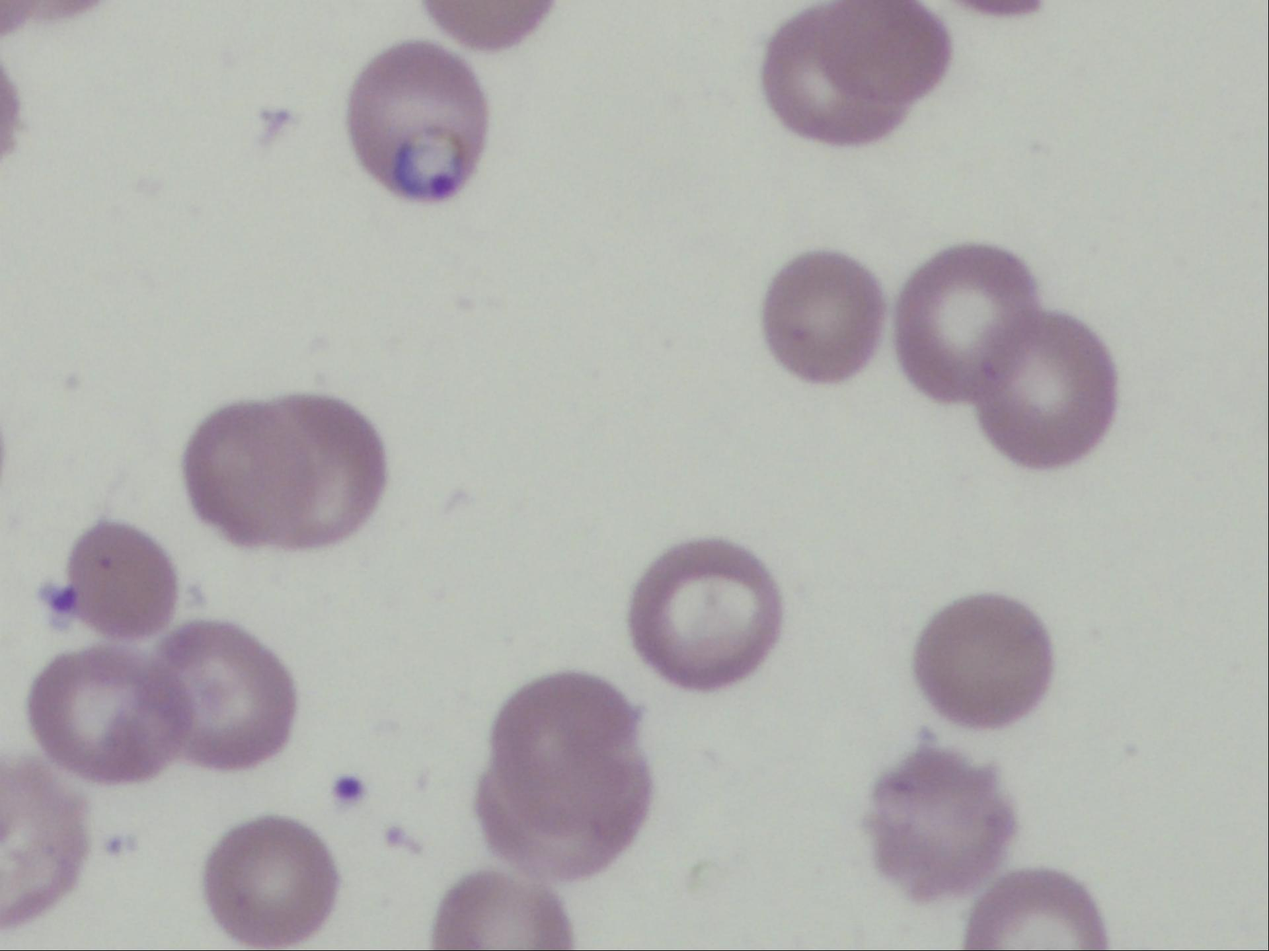Infected: (347, 39, 490, 202)
Uninfected: (476, 675, 647, 879), (184, 394, 384, 548), (762, 5, 952, 148), (892, 243, 1044, 406), (629, 537, 784, 687), (866, 745, 1015, 899), (26, 646, 190, 784), (983, 314, 1118, 467), (159, 624, 295, 771), (915, 593, 1054, 727), (202, 814, 336, 944), (764, 247, 881, 383), (4, 761, 87, 927), (63, 523, 178, 639), (434, 875, 569, 951), (966, 872, 1105, 944)
